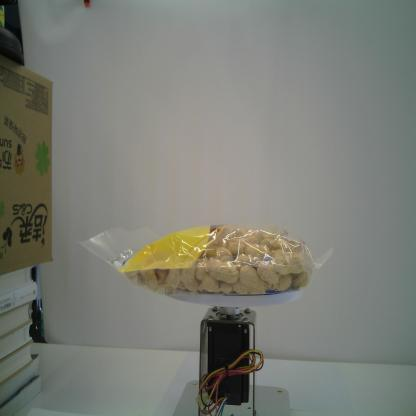Dried Food: (71, 219, 336, 297)
